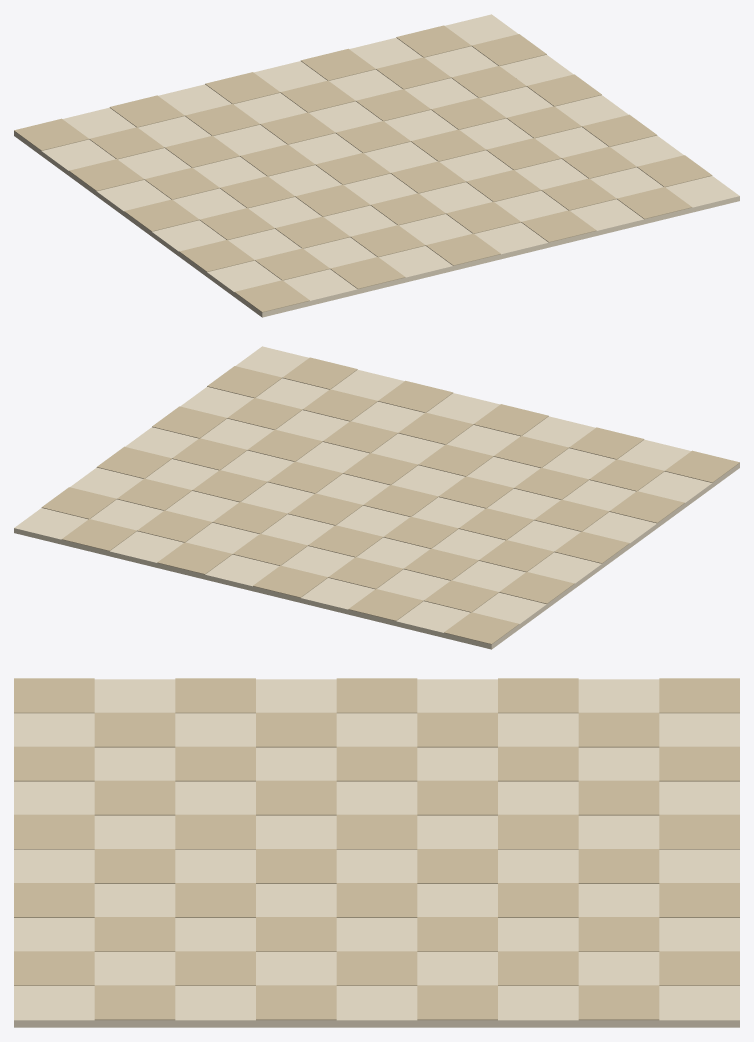
Rendered from Kitchen_Floor.fbx.
3 views of the same model, one above another, from view 1: azimuth 30°, elevation 25°; view 2: azimuth 150°, elevation 25°; view 3: azimuth 270°, elevation 25° (orthographic). The views are drawn at different scales.
Parts seen in each view (by area): view 1: Floor; view 2: Floor; view 3: Floor.
Part boxes in pixels (x1,y1,x2,y2): Floor: (14, 14, 739, 317); Floor: (14, 346, 739, 649); Floor: (14, 678, 739, 1027).
Size of the model in its own units: 10 by 0.112 by 9.
